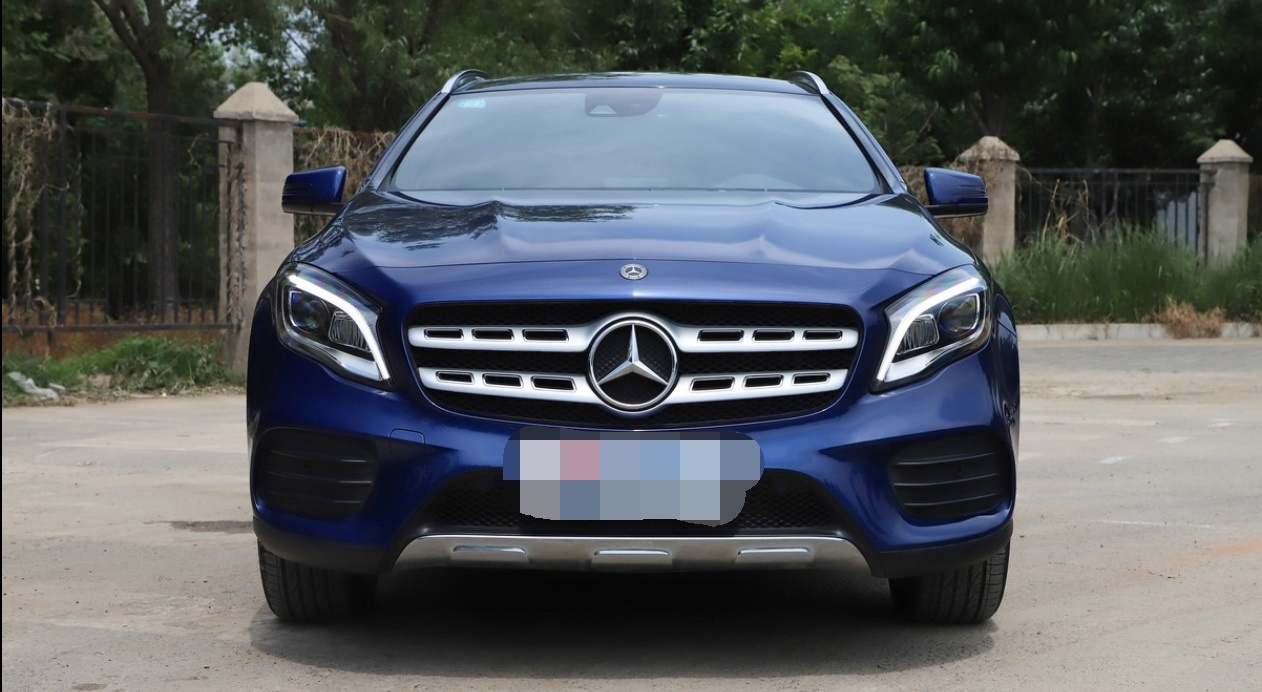SUV: (231, 51, 1034, 618)
